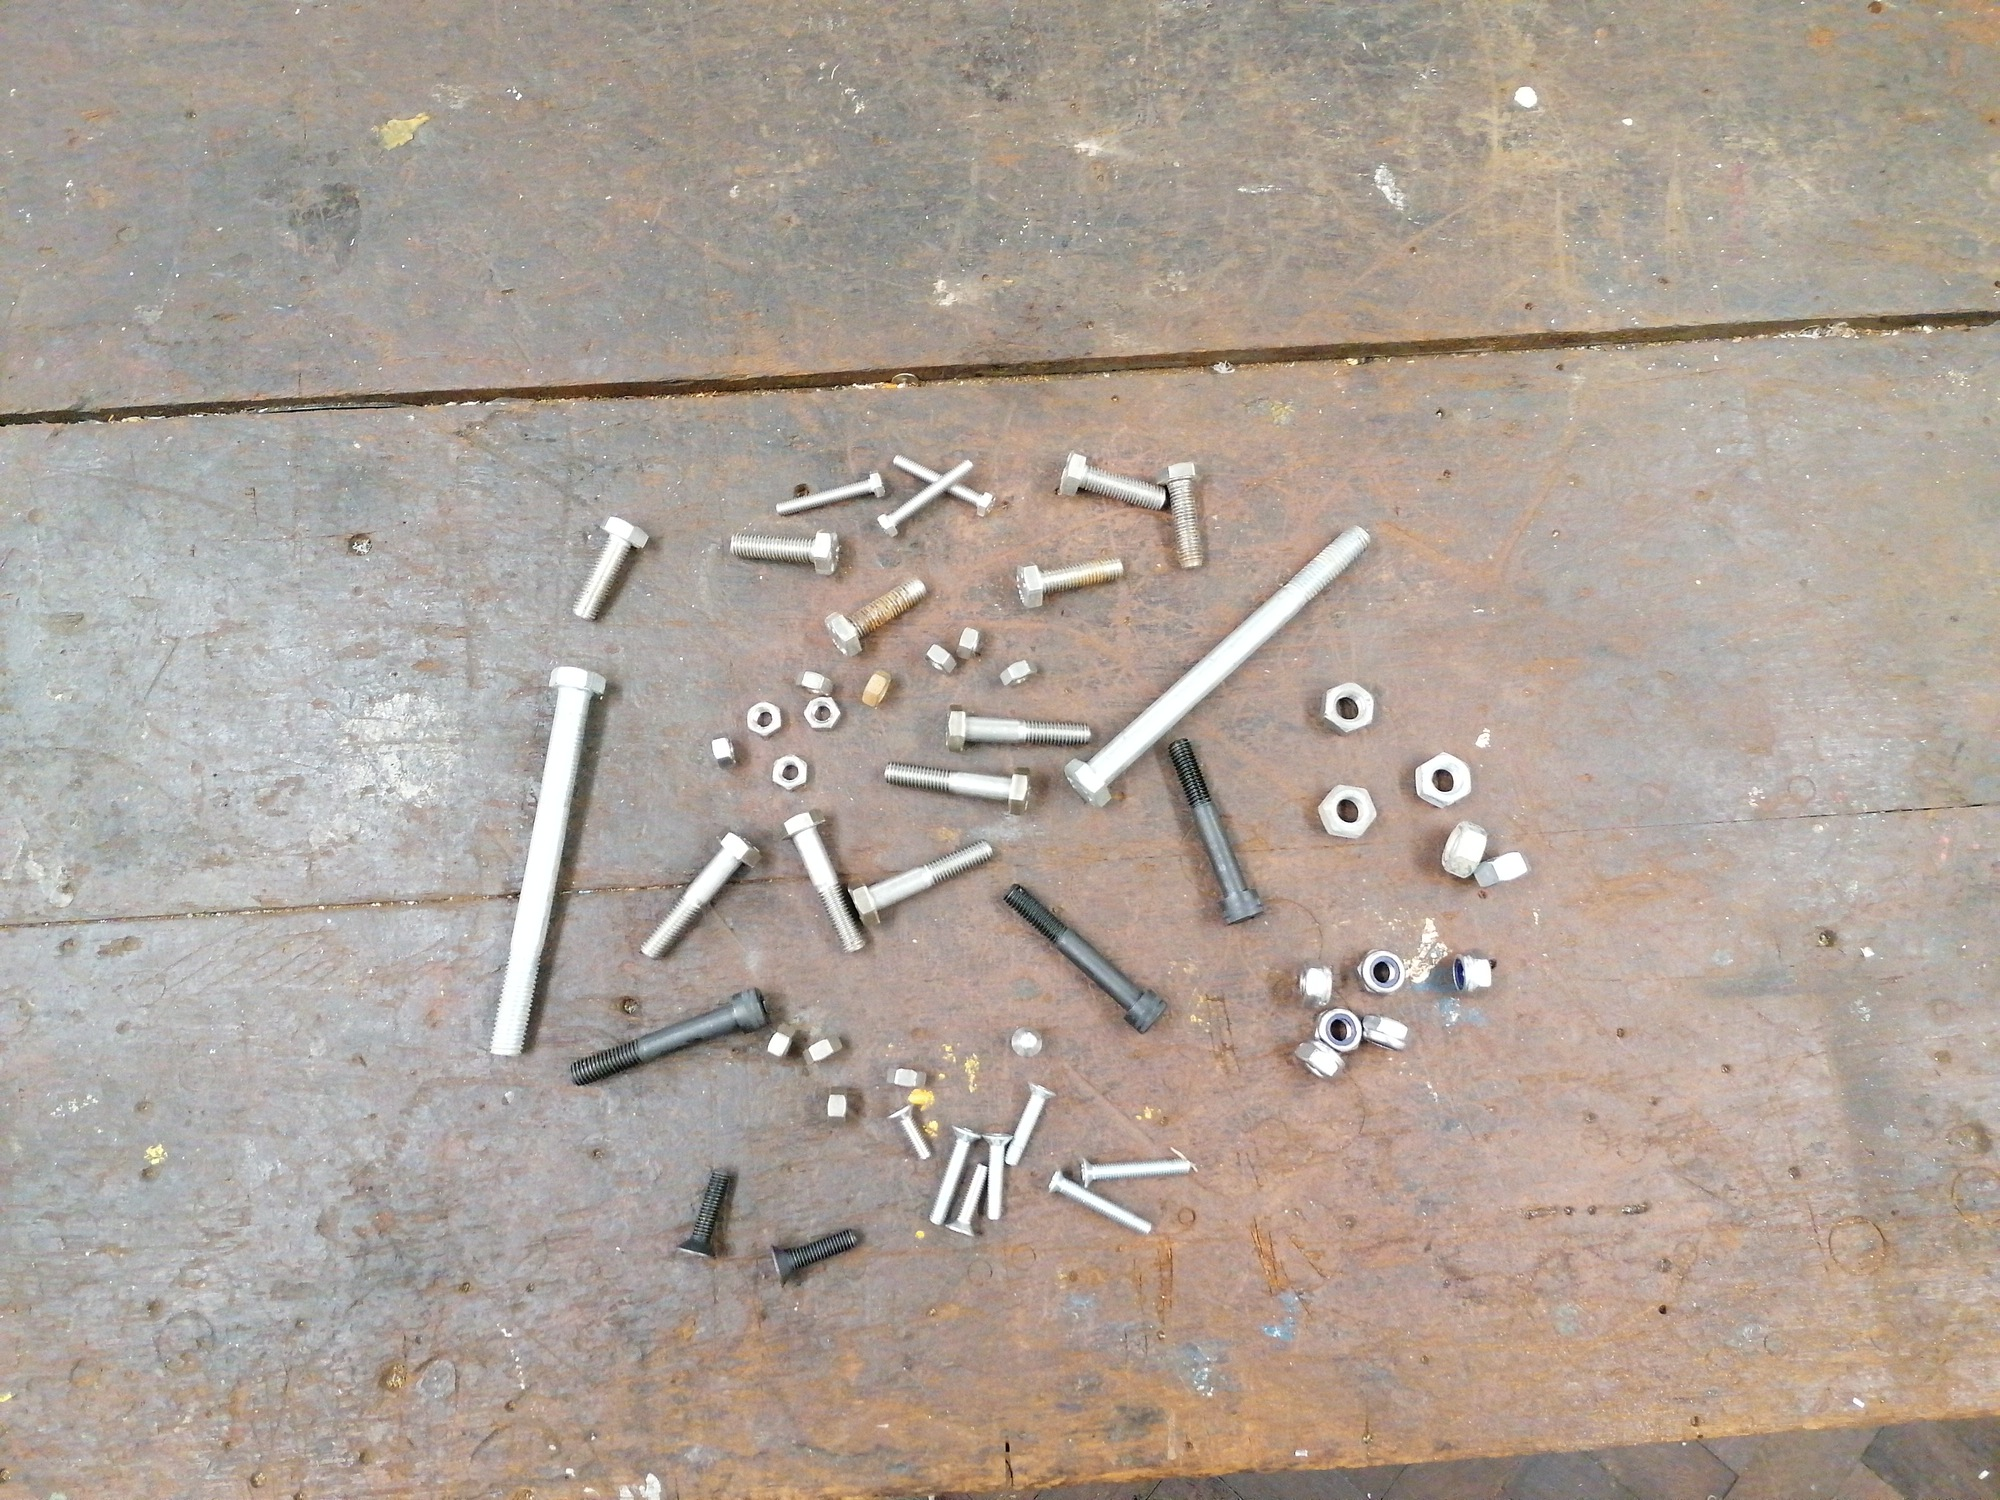bolt: (1063, 525, 1372, 807), (487, 663, 606, 1057), (1002, 882, 1165, 1034), (569, 985, 769, 1086), (1169, 736, 1263, 923), (638, 830, 762, 960), (846, 838, 994, 928), (783, 807, 866, 953), (824, 577, 928, 657), (883, 761, 1031, 816), (572, 515, 649, 621), (943, 703, 1091, 755), (876, 459, 973, 537), (1047, 1168, 1153, 1234), (1058, 447, 1165, 511), (891, 454, 997, 515), (1014, 555, 1124, 608), (928, 1123, 983, 1224), (769, 1227, 858, 1289), (1156, 459, 1205, 570), (728, 528, 839, 575), (676, 1169, 732, 1261), (773, 470, 885, 515), (1005, 1082, 1057, 1166), (1079, 1157, 1191, 1188), (943, 1161, 989, 1235), (983, 1131, 1013, 1221), (887, 1101, 931, 1160), (1009, 1026, 1043, 1057)
nut: (1413, 750, 1472, 808), (1317, 782, 1376, 838), (1317, 681, 1375, 737), (1439, 818, 1490, 878), (1312, 1004, 1364, 1056), (1353, 947, 1406, 994), (1471, 848, 1532, 889), (1291, 1038, 1345, 1079), (1450, 950, 1491, 997), (1361, 1013, 1409, 1053), (1298, 960, 1332, 1008), (802, 695, 843, 733), (772, 752, 809, 791), (746, 700, 783, 737), (860, 668, 891, 707), (998, 657, 1038, 689), (802, 1034, 843, 1064), (765, 1019, 795, 1060), (954, 622, 984, 662), (883, 1064, 928, 1089), (924, 641, 956, 674), (824, 1084, 847, 1125), (795, 670, 833, 695), (710, 734, 735, 769)
